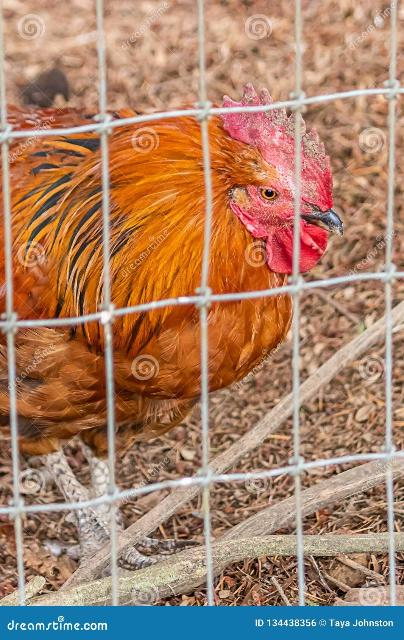Chicken: (0, 81, 343, 564)
